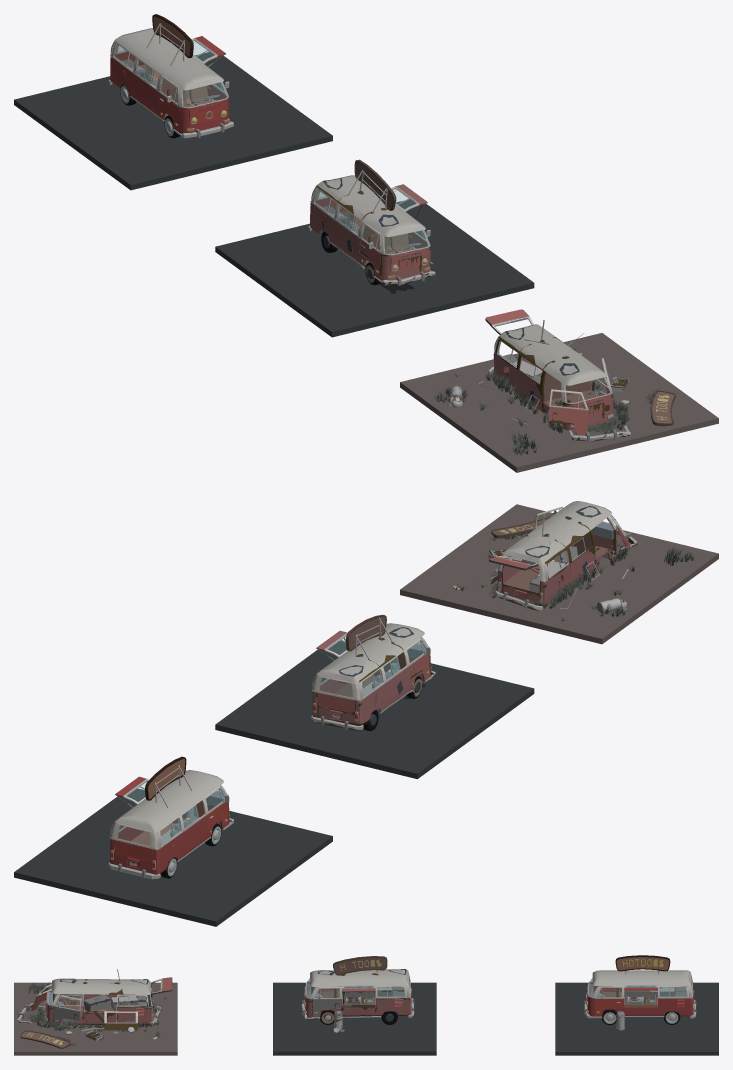
3 views of the same model, one above another, from view 1: azimuth 30°, elevation 25°; view 2: azimuth 150°, elevation 25°; view 3: azimuth 270°, elevation 25° (orthographic). The views are drawn at different scales.
Parts seen in each view (by area): view 1: bivaliy, new, polySurface860; view 2: new, bivaliy, polySurface860; view 3: new, bivaliy, polySurface860.
Boxes of the visible parts, left/top/right/bottom form: bivaliy: left=215, top=159, right=534, bottom=337; new: left=14, top=14, right=332, bottom=190; polySurface860: left=400, top=309, right=718, bottom=472; new: left=14, top=756, right=332, bottom=926; bivaliy: left=215, top=614, right=534, bottom=779; polySurface860: left=400, top=501, right=718, bottom=644; new: left=555, top=955, right=718, bottom=1055; bivaliy: left=273, top=956, right=436, bottom=1055; polySurface860: left=14, top=969, right=177, bottom=1055.
Size of the model in its own units: 19.73 by 8.88 by 84.96.
